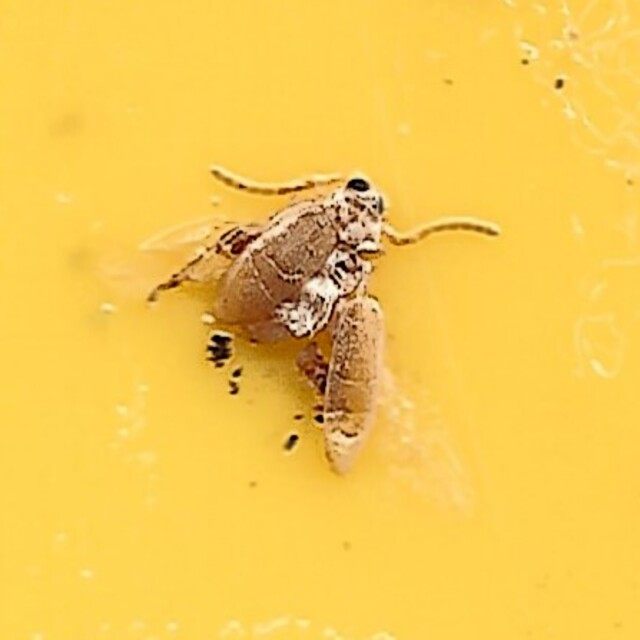Coleoptera: (143, 169, 497, 471)
